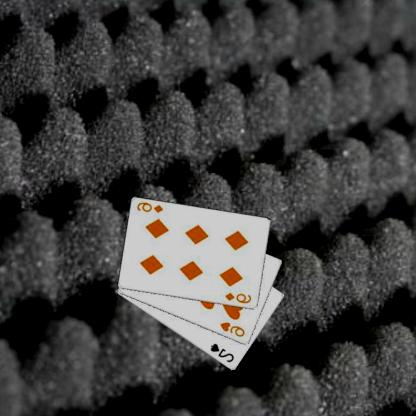2S: (210, 341, 238, 364)
6D: (224, 290, 254, 305), (136, 200, 166, 214)
9H: (219, 319, 248, 339)
